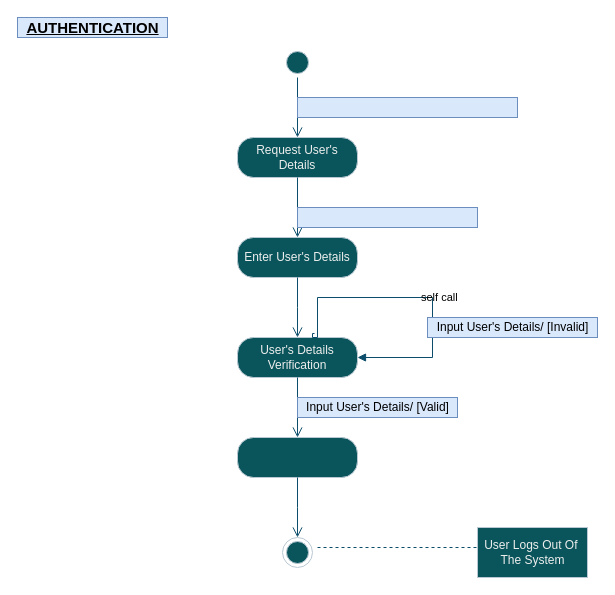
Image size: 615x595. Some labels were removed from this diagram. Here are the shapes that lost their labels. From the top down, the centre of each, then its label:
At pixel 407 107: "User Clicks The signup/signin Button".
At pixel 387 217: "User Enters Details Required".
At pixel 297 457: "Logged Into The System".
